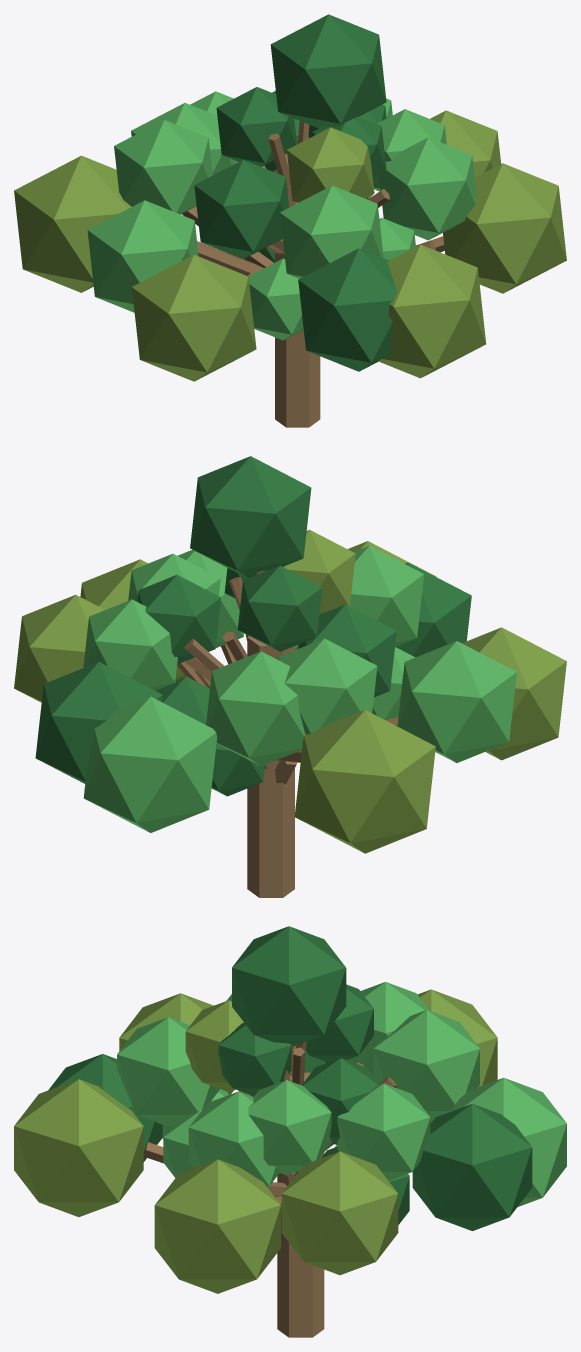
File: Tree_08.glb
3 views of the same model, one above another, from view 1: azimuth 30°, elevation 25°; view 2: azimuth 150°, elevation 25°; view 3: azimuth 270°, elevation 25° (orthographic). The views are drawn at different scales.
Parts seen in each view (by area): view 1: T08_Sphere_08, T08_Sphere_05, T08_Sphere_09, T08_Sphere_03, T08_Sphere_07, T08_Sphere_13, T08_Sphere_12, T08_Sphere_14, T08_Sphere_17, T08_Sphere_20, T08_Sphere_18, T08_Sphere_23 (+10 smaller); view 2: T08_Sphere_07, T08_Sphere_11, T08_Sphere_03, T08_Sphere_12, T08_Sphere_16, T08_Sphere_06, T08_Sphere_08, T08_Trunk, T08_Sphere_20, T08_Sphere_15, T08_Sphere_10, T08_Sphere_22 (+11 smaller); view 3: T08_Sphere_09, T08_Sphere_05, T08_Sphere_06, T08_Sphere_10, T08_Sphere_03, T08_Sphere_16, T08_Sphere_18, T08_Sphere_15, T08_Sphere_19, T08_Sphere_11, T08_Sphere_14, T08_Trunk (+10 smaller).
Part boxes in pixels (left/top/right/bottom): T08_Sphere_08: left=132, top=254, right=256, bottom=381; T08_Sphere_05: left=443, top=163, right=566, bottom=293; T08_Sphere_09: left=378, top=244, right=486, bottom=378; T08_Sphere_03: left=270, top=14, right=386, bottom=128; T08_Sphere_07: left=14, top=155, right=131, bottom=292; T08_Sphere_13: left=298, top=248, right=397, bottom=371; T08_Sphere_12: left=87, top=200, right=198, bottom=312; T08_Sphere_14: left=378, top=137, right=475, bottom=240; T08_Sphere_17: left=194, top=160, right=289, bottom=259; T08_Sphere_20: left=114, top=120, right=212, bottom=214; T08_Sphere_18: left=280, top=185, right=383, bottom=278; T08_Sphere_23: left=287, top=127, right=374, bottom=203; T08_Sphere_07: left=294, top=710, right=435, bottom=853; T08_Sphere_11: left=83, top=696, right=217, bottom=832; T08_Sphere_03: left=190, top=456, right=311, bottom=578; T08_Sphere_12: left=397, top=641, right=516, bottom=762; T08_Sphere_16: left=206, top=651, right=305, bottom=766; T08_Sphere_06: left=35, top=662, right=162, bottom=783; T08_Sphere_08: left=462, top=627, right=566, bottom=760; T08_Trunk: left=247, top=636, right=294, bottom=897; T08_Sphere_20: left=278, top=638, right=377, bottom=734; T08_Sphere_15: left=83, top=599, right=177, bottom=690; T08_Sphere_10: left=14, top=594, right=104, bottom=702; T08_Sphere_22: left=237, top=565, right=322, bottom=651; T08_Sphere_09: left=14, top=1079, right=143, bottom=1217; T08_Sphere_05: left=154, top=1159, right=280, bottom=1293; T08_Sphere_06: left=412, top=1103, right=532, bottom=1230; T08_Sphere_10: left=281, top=1151, right=398, bottom=1275; T08_Sphere_03: left=232, top=926, right=346, bottom=1046; T08_Sphere_16: left=373, top=1010, right=479, bottom=1121; T08_Sphere_18: left=117, top=1017, right=219, bottom=1126; T08_Sphere_15: left=337, top=1083, right=430, bottom=1180; T08_Sphere_19: left=248, top=1080, right=331, bottom=1175; T08_Sphere_11: left=450, top=1077, right=566, bottom=1206; T08_Sphere_14: left=188, top=1091, right=279, bottom=1186; T08_Trunk: left=277, top=1072, right=324, bottom=1337.
Size of the model in its own units: 2.66 by 2.35 by 2.83.
